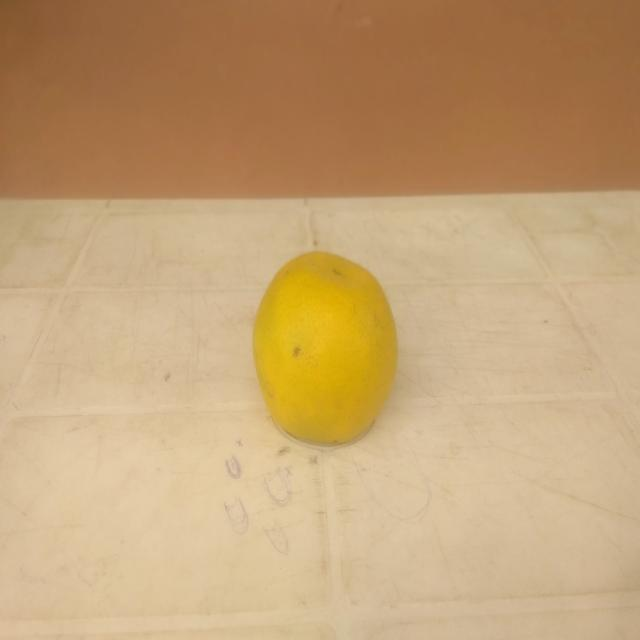Ripe orange: (231, 225, 414, 478)
